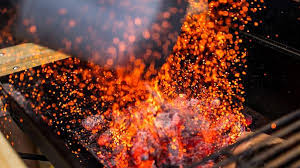fire: (100, 83, 207, 168), (154, 95, 252, 158), (175, 11, 240, 102)
